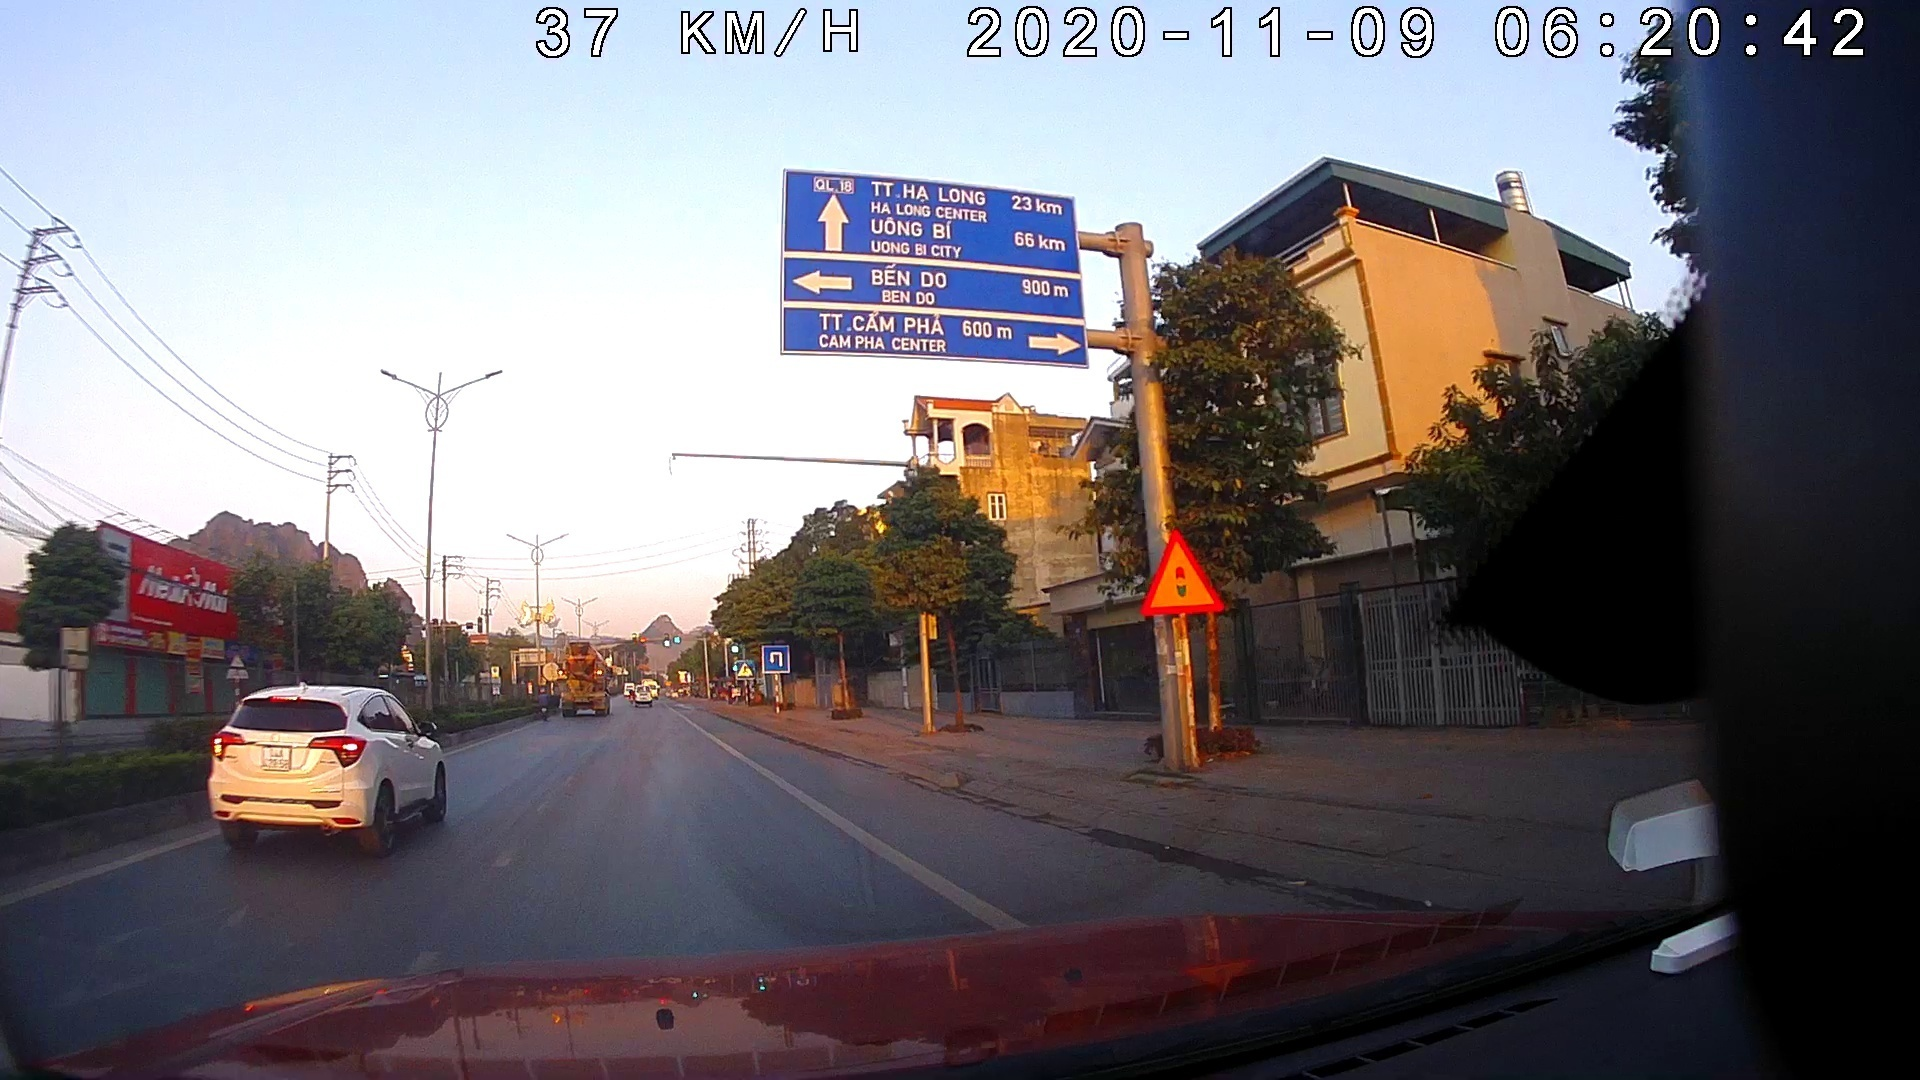Bien khac: (1134, 524, 1226, 618), (761, 645, 789, 673)
Nguoi di bo: (732, 658, 752, 679)
